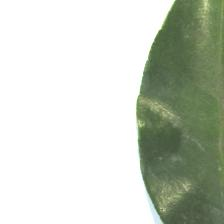healthy: (138, 1, 224, 224)
